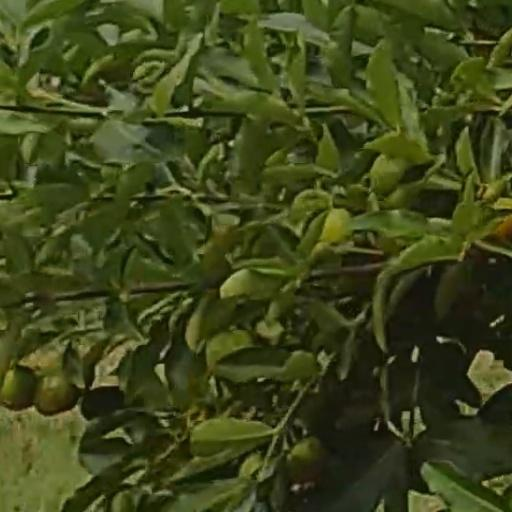acerola: (37, 373, 73, 413), (3, 368, 31, 409)
